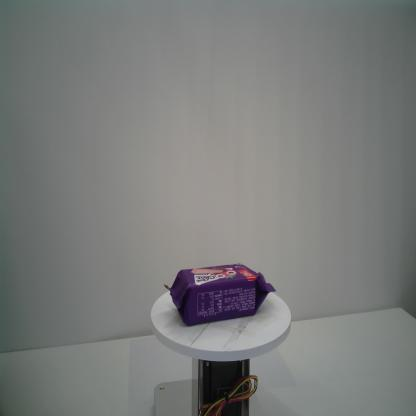Dessert: (162, 262, 276, 327)
